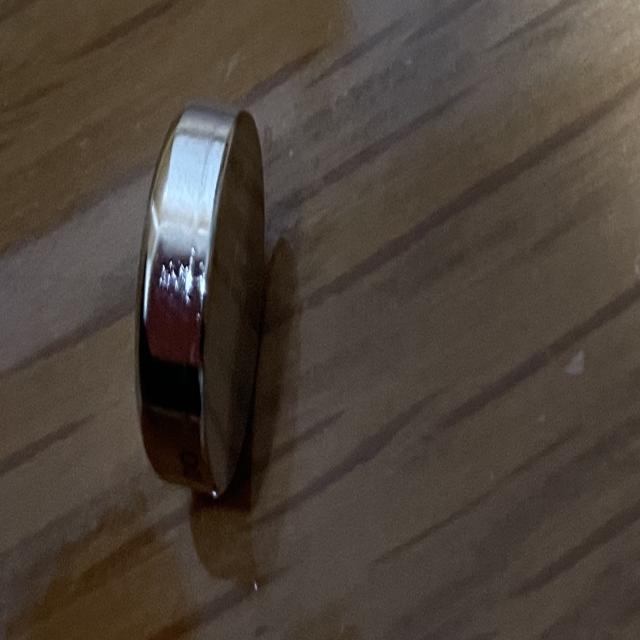COIN: (138, 100, 270, 507)
